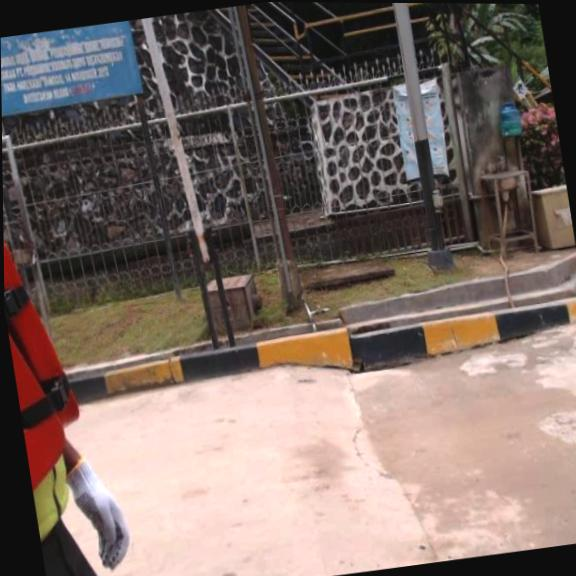safety_vest: (3, 215, 100, 497)
